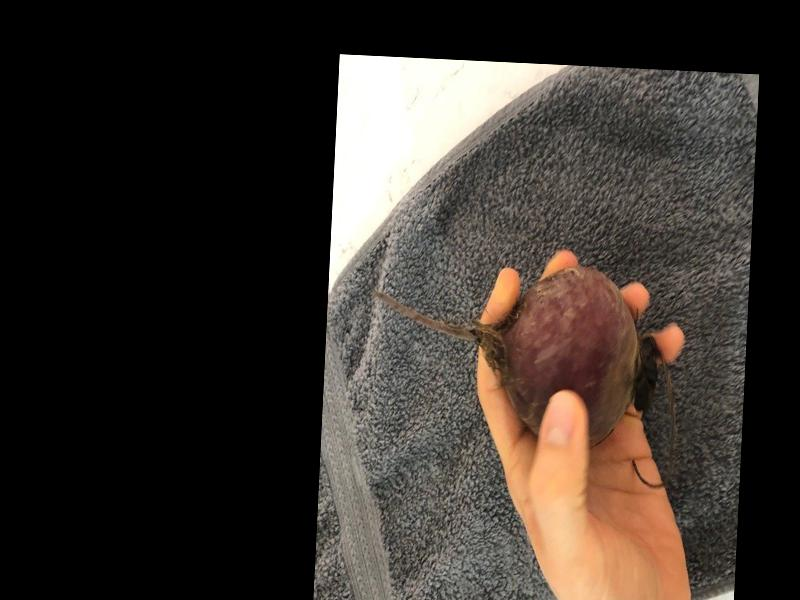Beet: (362, 255, 661, 451)
